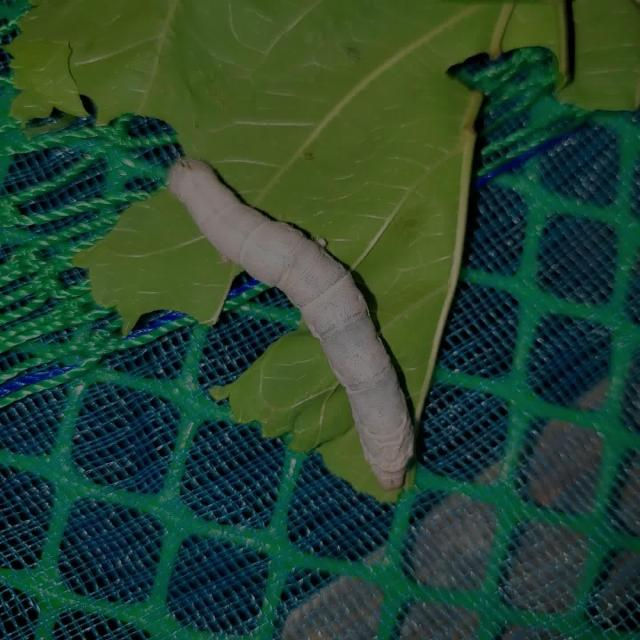Healthy: (162, 148, 426, 493)
